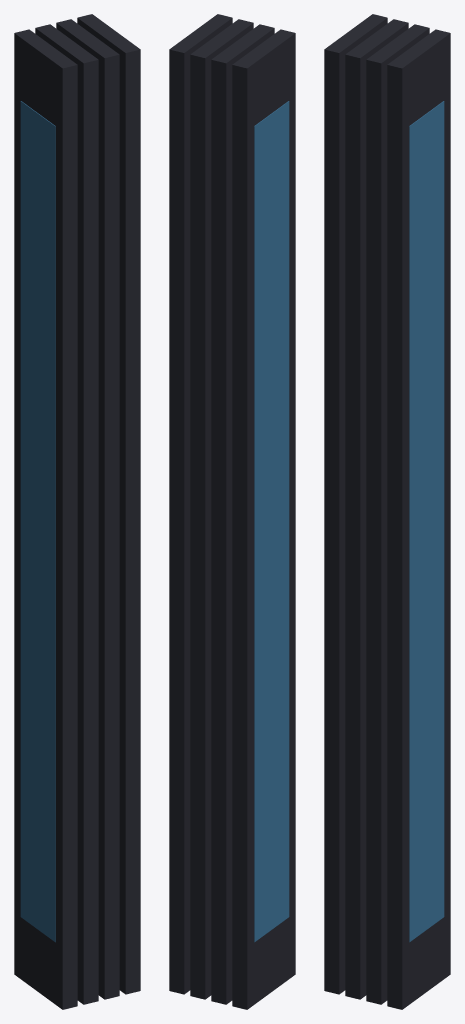
The model's file is hall_door_leaves.glb.
3 views of the same model, side by side, from view 1: azimuth 30°, elevation 25°; view 2: azimuth 150°, elevation 25°; view 3: azimuth 330°, elevation 25° (orthographic).
Visible parts, largest first — view 1: leaves; view 2: leaves; view 3: leaves.
Part boxes in pixels (x1,y1,x2,y2): leaves: (14,14,140,1009); leaves: (169,14,295,1009); leaves: (324,14,450,1009).
Bounding box in the file's own units: 0.264 × 3 × 0.28.
